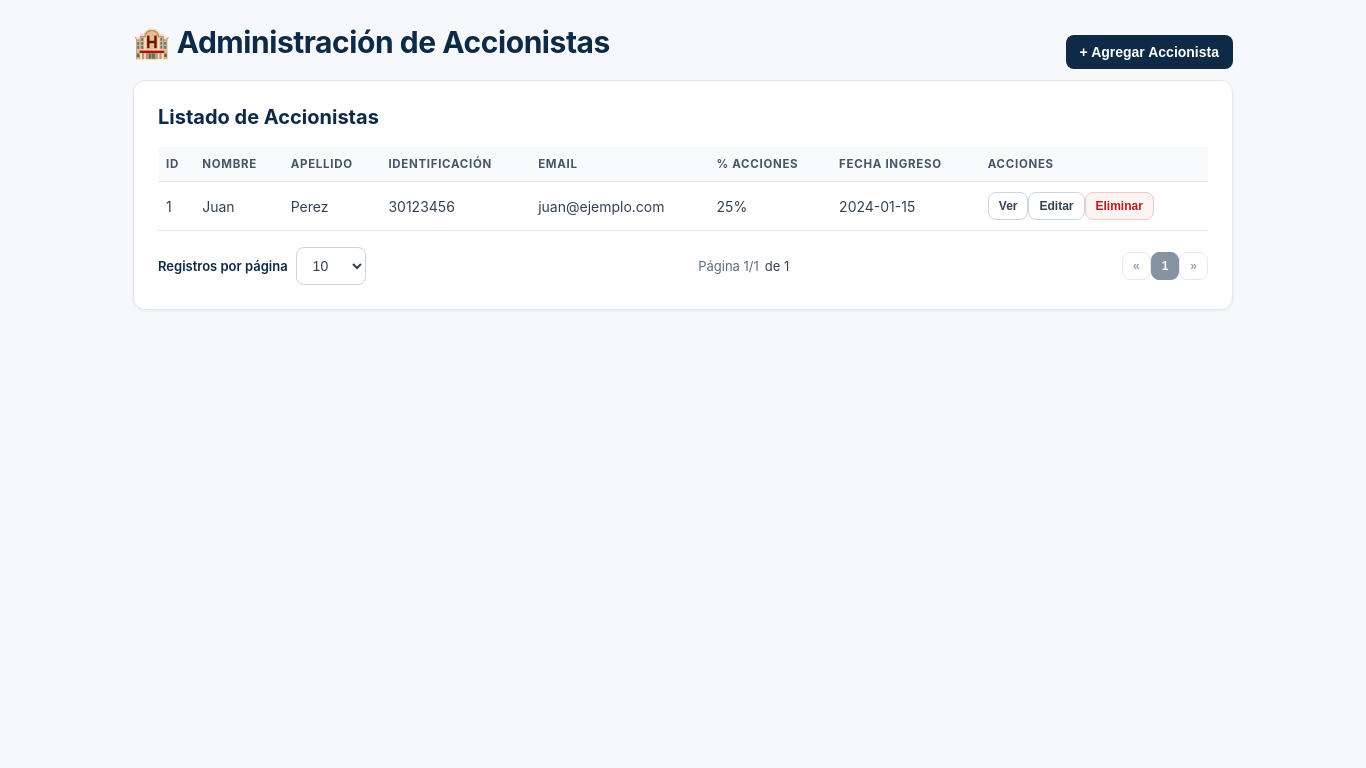
Test: AccionistasManager con popup de alta/edición › abre un popup con los datos precargados al pulsar Editar y envía PUT con la actualización
Expected: the text "Juan" is shown, [194,182,283,231]
Click the button "Editar": point(1056, 206) [1028,192,1084,220]
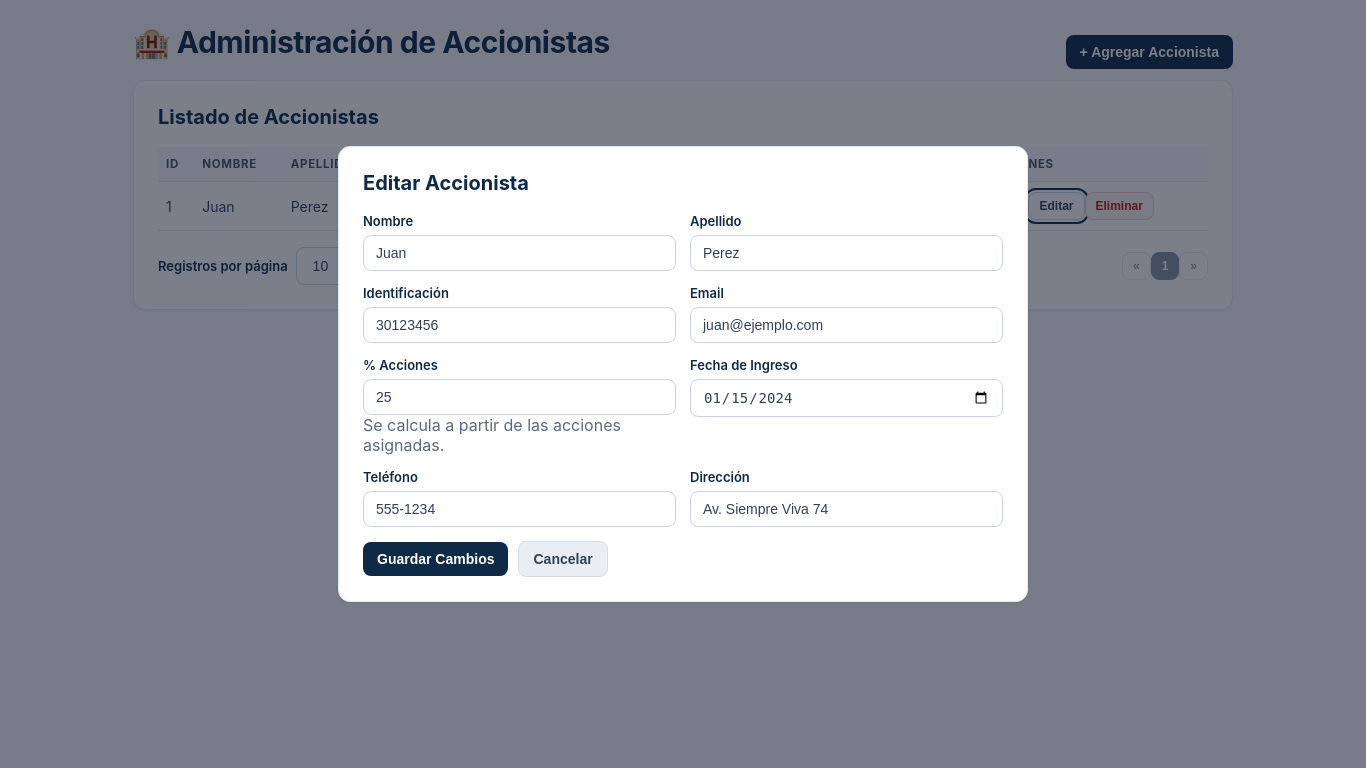
Now the dialog is shown, box [338,146,1028,602]
Now the heading "Editar Accionista" is shown, box [363,171,529,195]
Now the field labelled "Nombre" holds "Juan"
Clear the field labelled "Nombre": point(520, 253) [363,235,676,271]
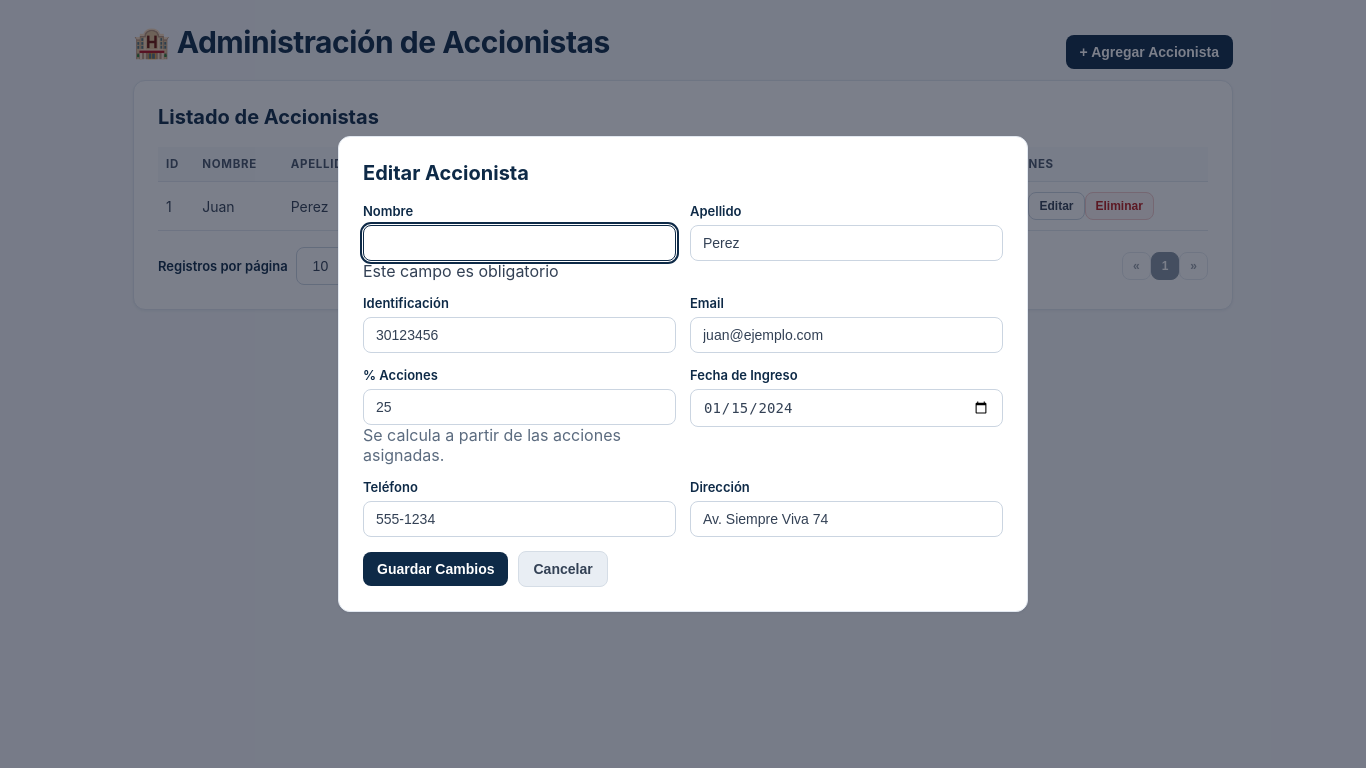
In the field labelled "Nombre": point(520, 243) [363,225,676,261], type "Juan Carlos"
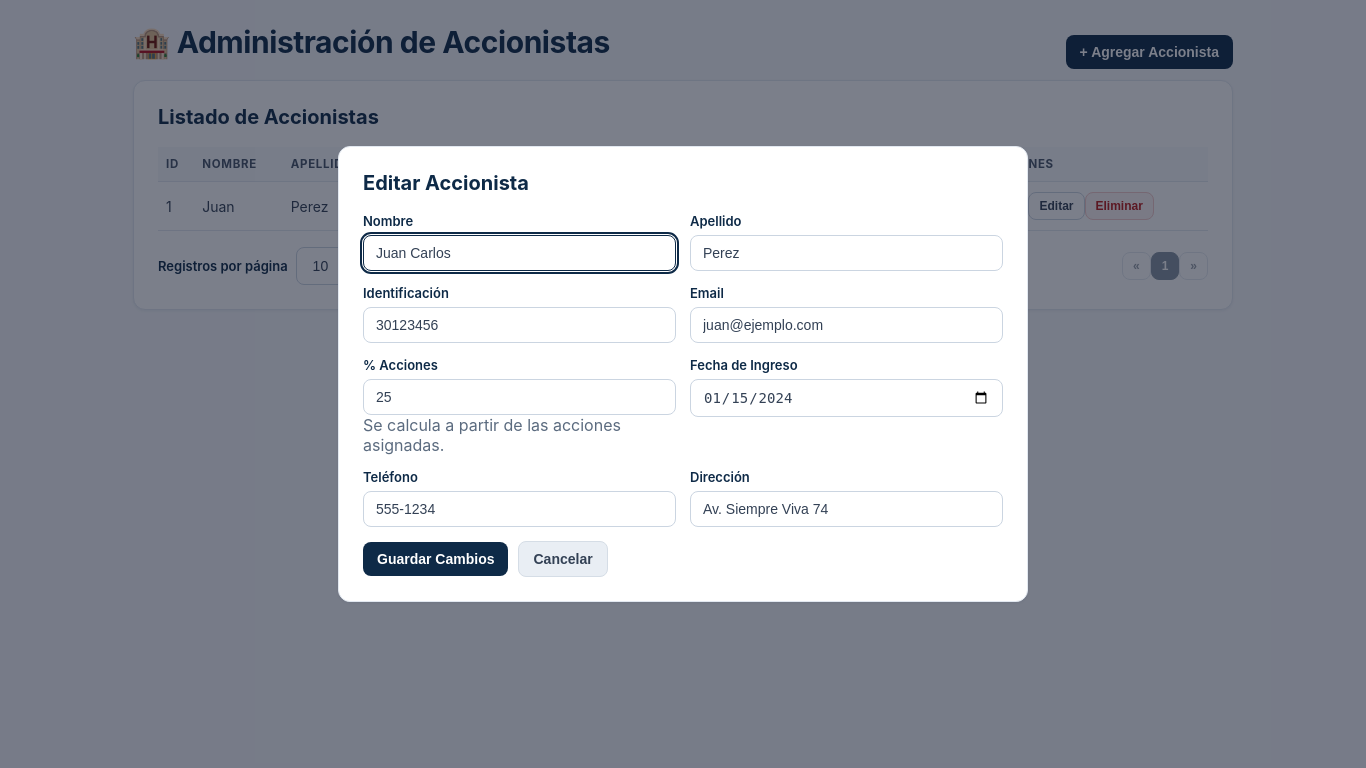
Click the button "Guardar Cambios": point(436, 559) [363,542,508,576]
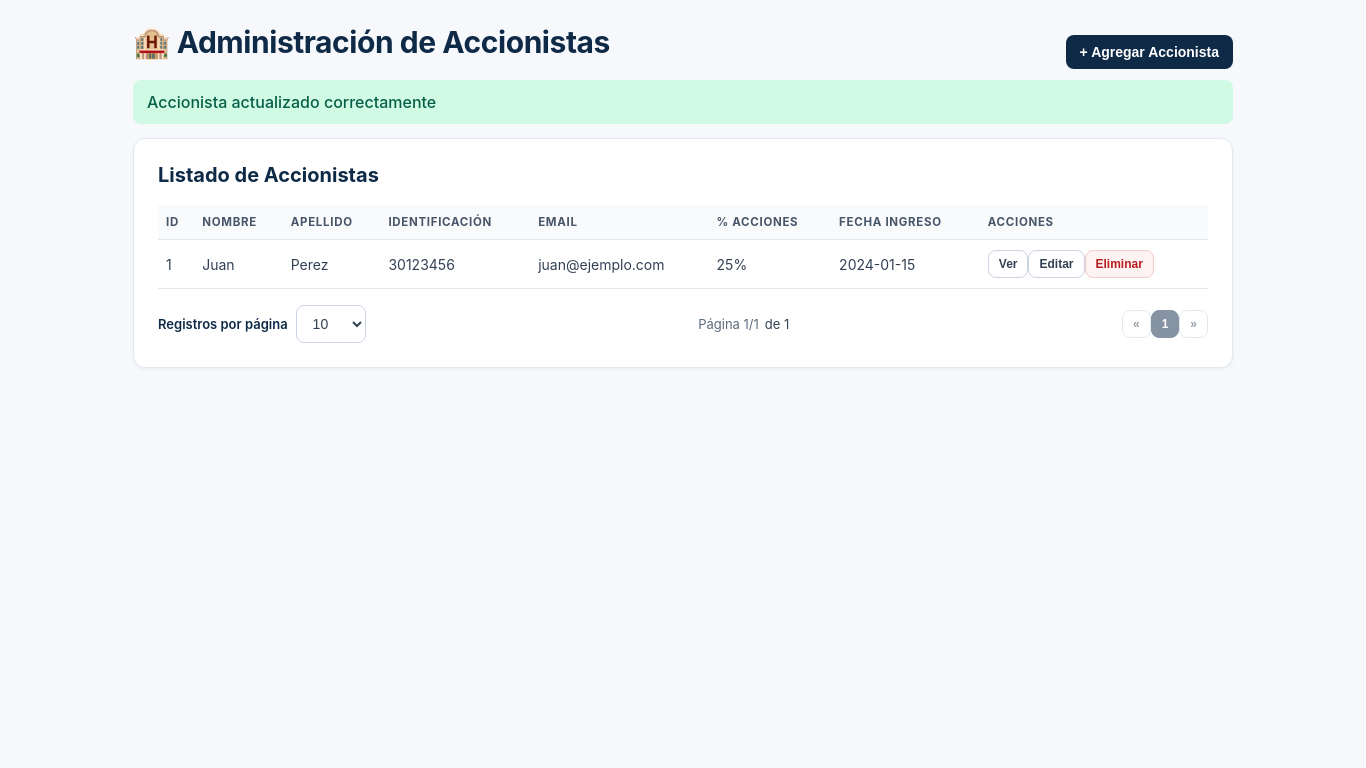
Expected: the cell "Perez" is shown, [283,240,380,289]
Now the dialog is gone
Now the text "Accionista actualizado correctamente" is shown, box [133,80,1233,124]
